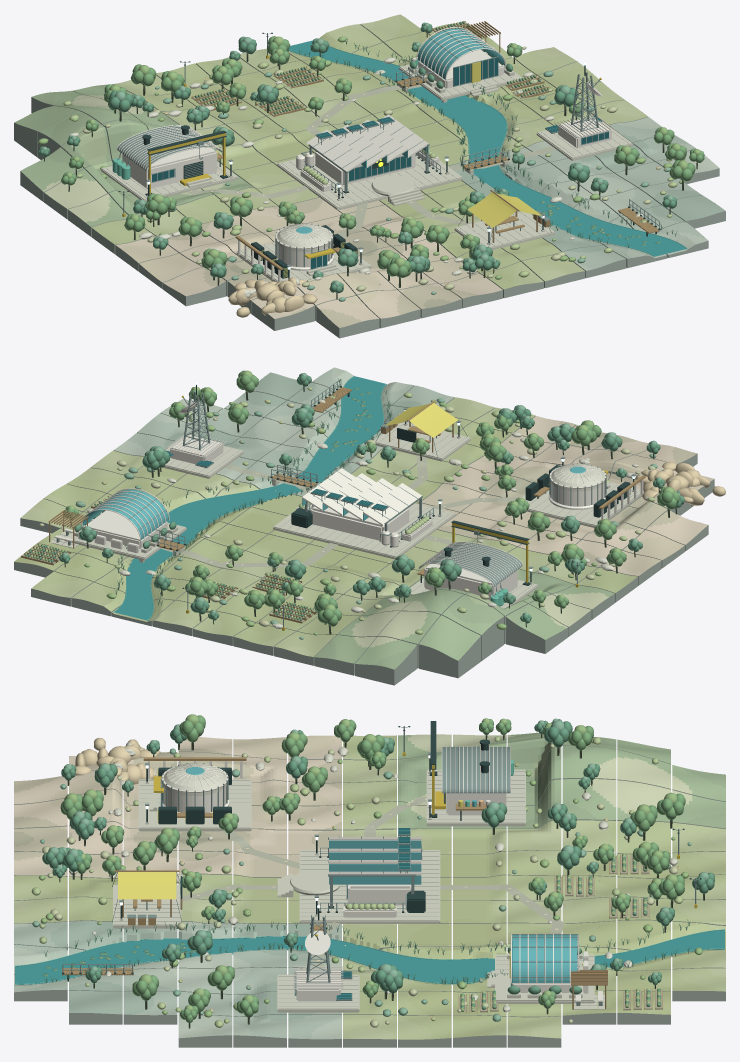
The model's file is ronghuang-atlas.glb.
3 renders of one model, top to bottom at view 1: azimuth 30°, elevation 25°; view 2: azimuth 150°, elevation 25°; view 3: azimuth 270°, elevation 25°, orthographic. The views are drawn at different scales.
Visible parts, largest first — view 1: terrain_land1, terrain_edge, terrain_land2, botanical_leaf0, terrain_water, terrain_land9, botanical_leaf3, terrain_land0, terrain_land13, terrain_land8, terrain_land5, pavilion_porcelain (+42 smaller); view 2: terrain_land1, terrain_edge, terrain_land2, botanical_leaf0, terrain_water, terrain_land9, terrain_land0, botanical_leaf3, terrain_land13, terrain_land5, pavilion_porcelain, terrain_land8 (+37 smaller); view 3: terrain_land1, terrain_land2, terrain_land0, terrain_edge, botanical_leaf0, terrain_land9, botanical_leaf3, terrain_water, terrain_land13, terrain_land5, terrain_land8, terrain_land12 (+41 smaller).
Boxes of the visible parts, left/top/right/bottom form: terrain_land1: left=92, top=15, right=609, bottom=289; terrain_edge: left=14, top=24, right=725, bottom=338; terrain_land2: left=114, top=14, right=647, bottom=285; botanical_leaf0: left=61, top=36, right=704, bottom=277; terrain_water: left=289, top=40, right=687, bottom=256; terrain_land9: left=116, top=201, right=502, bottom=321; botanical_leaf3: left=38, top=22, right=676, bottom=293; terrain_land0: left=187, top=22, right=570, bottom=276; terrain_land13: left=450, top=124, right=705, bottom=268; terrain_land8: left=120, top=200, right=486, bottom=304; terrain_land5: left=14, top=86, right=245, bottom=226; pavilion_porcelain: left=296, top=114, right=439, bottom=192; terrain_land1: left=33, top=412, right=637, bottom=643; terrain_edge: left=14, top=382, right=714, bottom=685; terrain_land2: left=31, top=397, right=603, bottom=656; botanical_leaf0: left=64, top=370, right=680, bottom=626; terrain_water: left=113, top=376, right=386, bottom=620; terrain_land9: left=442, top=416, right=714, bottom=575; terrain_land0: left=14, top=427, right=517, bottom=632; botanical_leaf3: left=59, top=373, right=684, bottom=623; terrain_land13: left=127, top=369, right=447, bottom=496; terrain_land5: left=332, top=569, right=614, bottom=664; pavilion_porcelain: left=296, top=468, right=432, bottom=547; terrain_land8: left=418, top=428, right=684, bottom=573; terrain_land1: left=14, top=735, right=725, bottom=1039; terrain_land2: left=14, top=753, right=725, bottom=1039; terrain_land0: left=54, top=854, right=692, bottom=1020; terrain_edge: left=14, top=735, right=725, bottom=1047; botanical_leaf0: left=60, top=715, right=685, bottom=1022; terrain_land9: left=14, top=735, right=341, bottom=875; botanical_leaf3: left=42, top=719, right=714, bottom=993; terrain_water: left=15, top=929, right=724, bottom=984; terrain_land13: left=14, top=921, right=341, bottom=1039; terrain_land5: left=398, top=732, right=725, bottom=828; terrain_land8: left=51, top=735, right=335, bottom=877; terrain_land12: left=51, top=920, right=331, bottom=1020.
Size of the model in its own units: 41.53 by 6.49 by 41.53.
